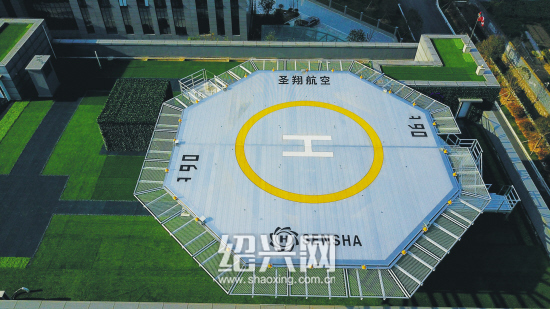H: (283, 137, 333, 157)
